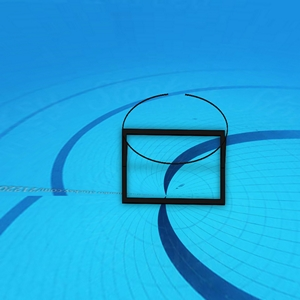circle: (119, 91, 230, 210)
